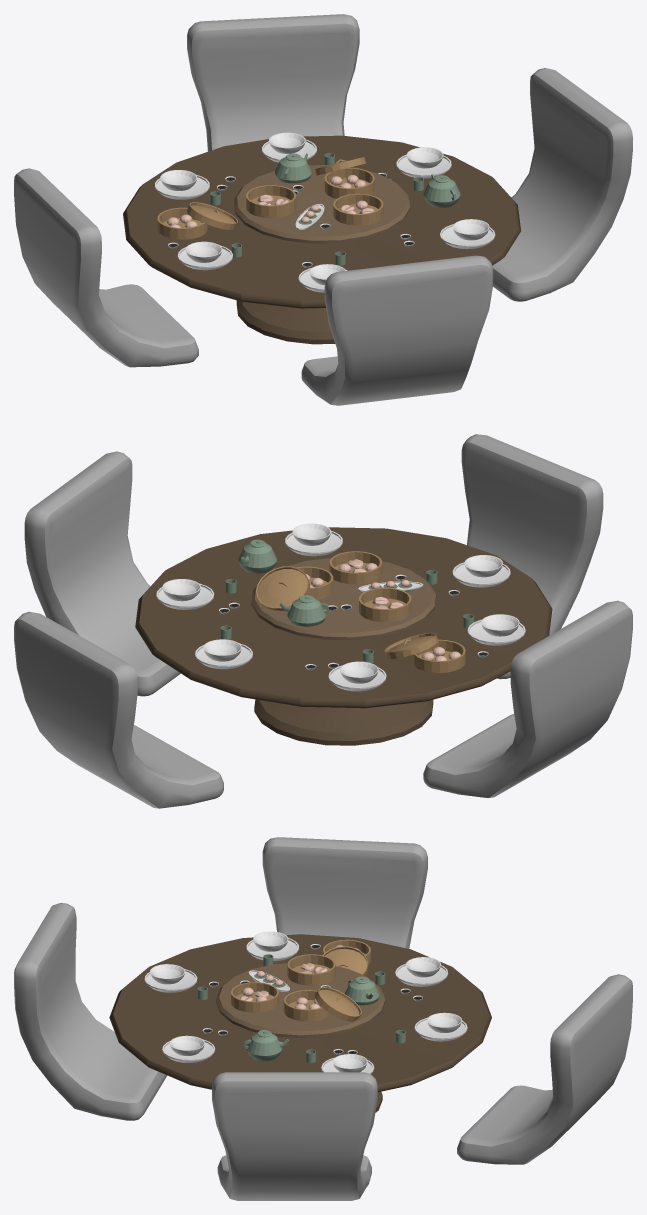
Rendered from Table.fbx.
3 renders of one model, top to bottom at view 1: azimuth 30°, elevation 25°; view 2: azimuth 150°, elevation 25°; view 3: azimuth 270°, elevation 25°, orthographic. The views are drawn at different scales.
Visible parts, largest first — view 1: Table1, Chair3, Chair, Chair1, Chair2, Plates, Steamer, Teapots, Dumplings; view 2: Table1, Chair1, Chair2, Chair, Chair3, Plates, Steamer, Teapots, Dumplings, Sauce; view 3: Table1, Chair, Chair3, Chair2, Chair1, Plates, Steamer, Teapots, Dumplings.
Part boxes in pixels (x1,y1,x2,y2): Table1: (123,135,520,344); Chair3: (301,255,493,405); Chair: (492,68,632,301); Chair1: (187,14,359,151); Chair2: (14,168,198,367); Plates: (155,132,495,292); Steamer: (157,157,383,239); Teapots: (210,153,460,265); Dumplings: (167,175,374,227); Table1: (135,527,552,745); Chair1: (14,611,223,808); Chair2: (423,600,632,797); Chair: (24,451,180,696); Chair3: (461,434,603,679); Plates: (156,523,525,691); Steamer: (256,551,465,672); Teapots: (220,539,474,663); Dumplings: (306,559,460,660); Sauce: (219,574,488,670); Table1: (109,934,491,1112); Chair: (212,1072,377,1200); Chair3: (14,903,167,1120); Chair2: (262,837,427,948); Chair1: (457,974,632,1164); Plates: (144,931,467,1073); Steamer: (231,939,370,1021); Teapots: (197,954,405,1062); Dumplings: (239,945,358,1009).
Size of the model in its own units: 12.53 by 3.49 by 13.28.
